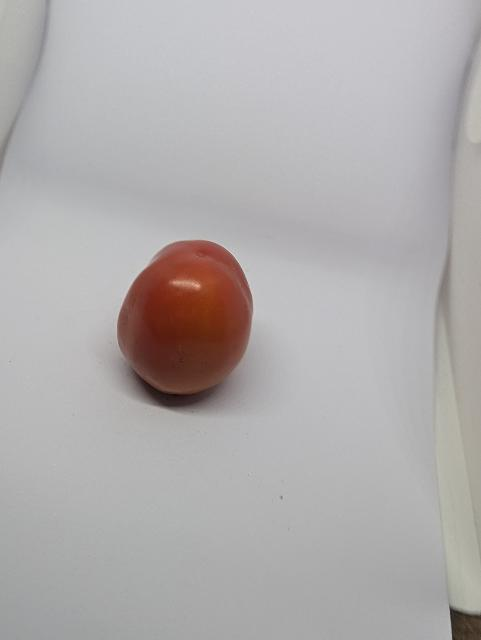red: (94, 226, 285, 425)
